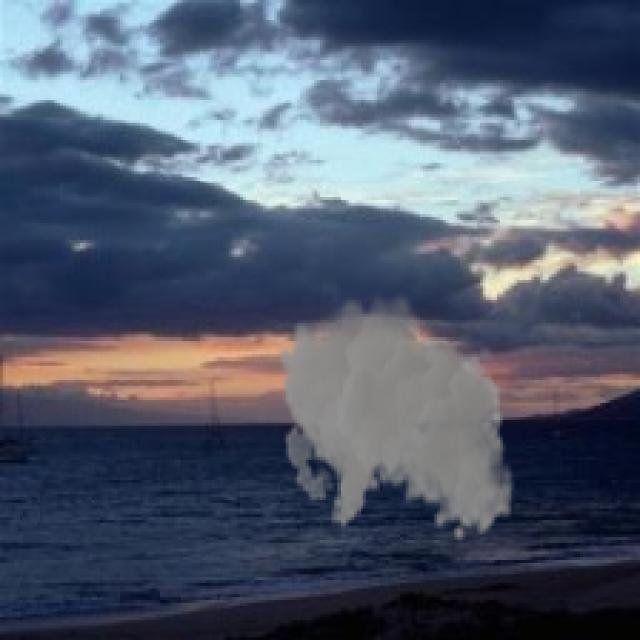smoke: (277, 286, 514, 543)
